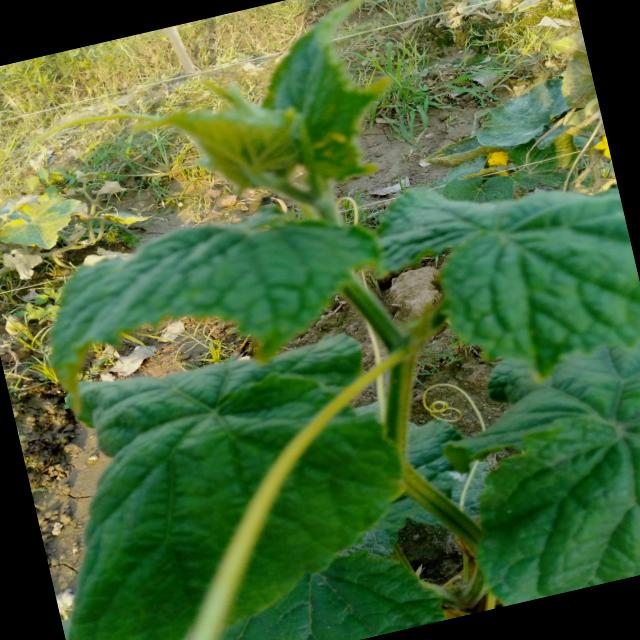cucumber_healthy: (8, 306, 438, 640), (13, 142, 410, 431), (353, 134, 640, 419), (114, 0, 420, 238), (422, 338, 640, 612)
